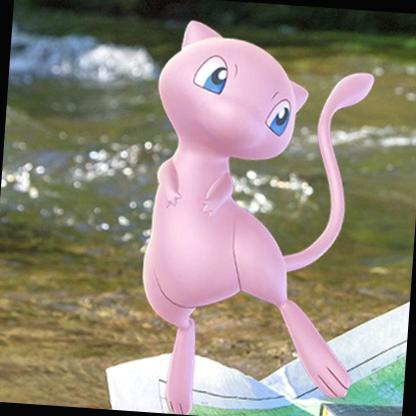Mew: (0, 46, 375, 415)
